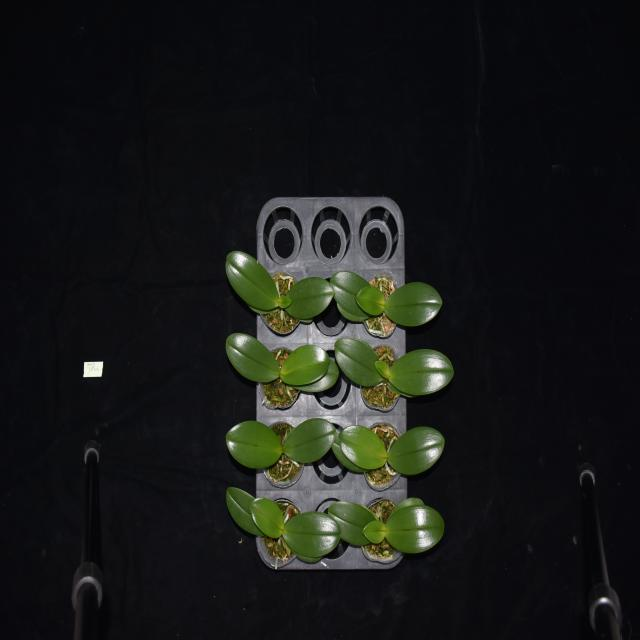leaf: (226, 251, 278, 312), (387, 425, 445, 476), (390, 348, 455, 393), (226, 420, 284, 469), (386, 505, 445, 553), (225, 332, 280, 383), (386, 280, 442, 327), (285, 511, 341, 558), (334, 336, 384, 388), (284, 418, 336, 464), (286, 276, 335, 322), (338, 424, 387, 470), (328, 502, 377, 546), (280, 343, 330, 386), (225, 486, 265, 536), (332, 426, 372, 474), (289, 358, 340, 393), (330, 271, 370, 315), (249, 496, 285, 538), (282, 538, 322, 564), (385, 497, 424, 521), (356, 285, 385, 315), (336, 301, 370, 322), (362, 519, 386, 543), (374, 360, 390, 379), (278, 296, 291, 309)
